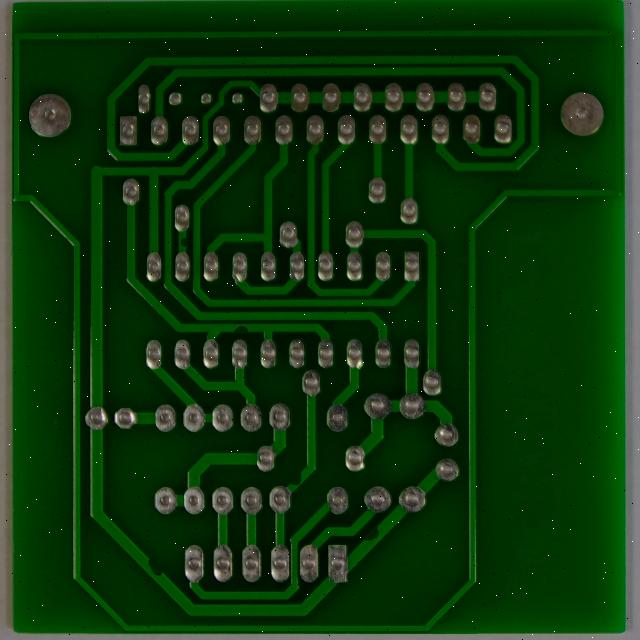mouse_bite: (370, 519, 400, 544), (146, 554, 172, 580), (293, 465, 317, 485), (236, 310, 261, 328), (179, 222, 197, 236)
